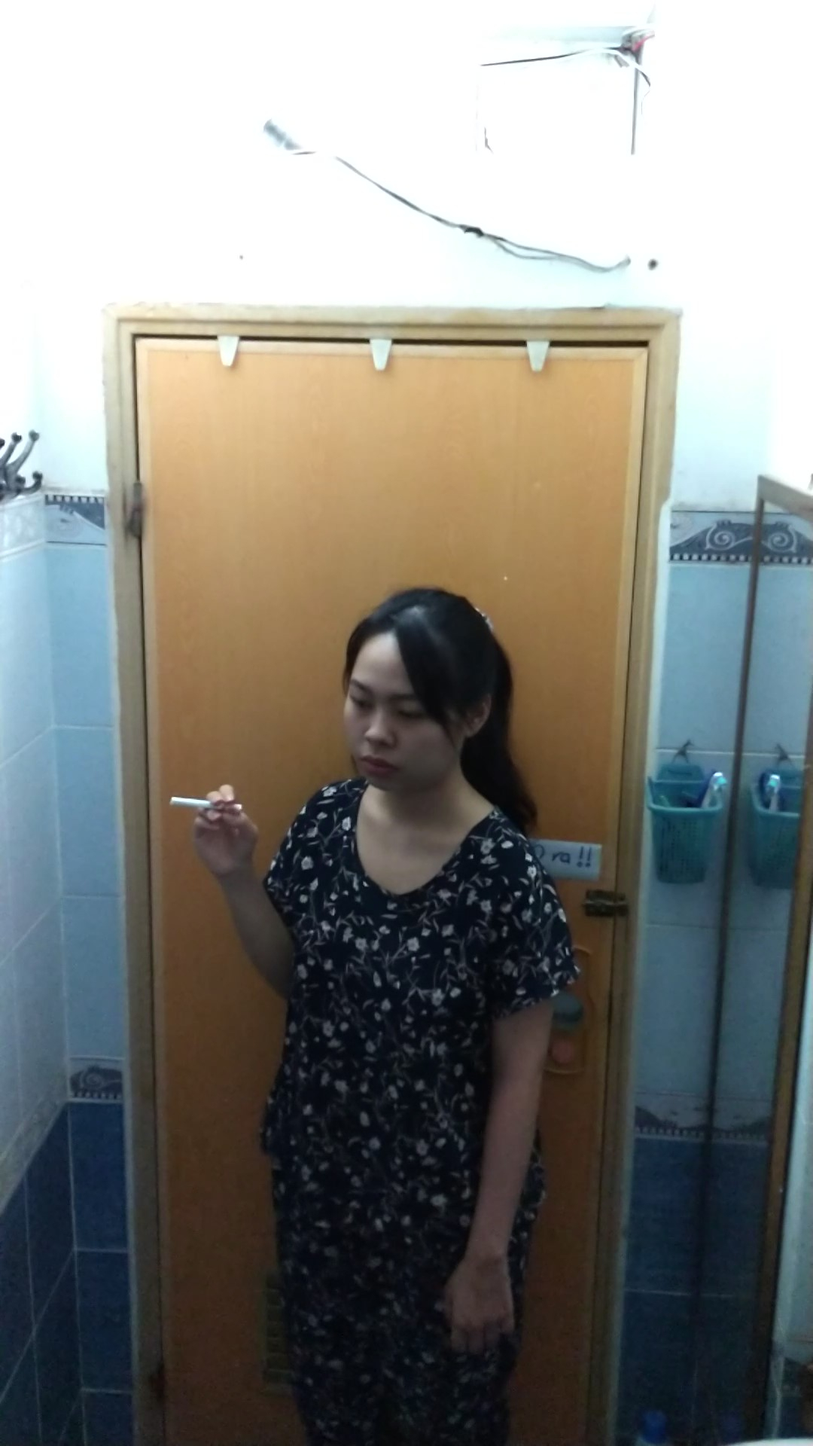cigarette: (163, 792, 209, 813)
person: (178, 584, 589, 1446)
